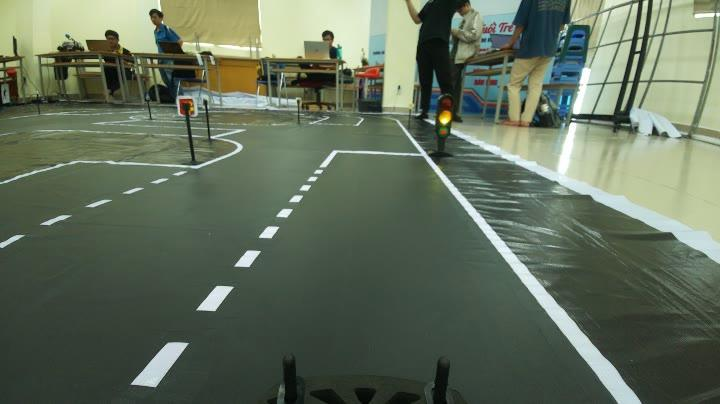trafficlight: (420, 88, 456, 164)
